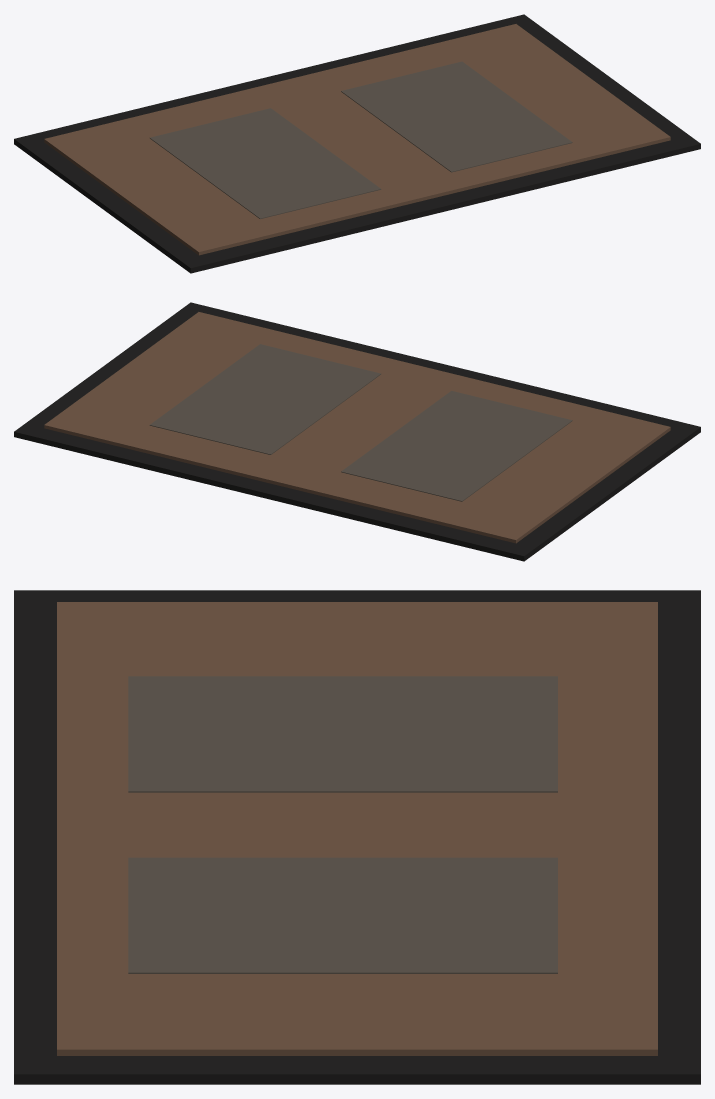
The model's file is door-mat.glb.
3 views of the same model, one above another, from view 1: azimuth 30°, elevation 25°; view 2: azimuth 150°, elevation 25°; view 3: azimuth 270°, elevation 25° (orthographic). The views are drawn at different scales.
Parts seen in each view (by area): view 1: wood, fabric, rubber; view 2: wood, fabric, rubber; view 3: wood, fabric, rubber.
Boxes of the visible parts, bbox=[...] form: wood: bbox=[44, 24, 670, 255]; fabric: bbox=[150, 61, 572, 218]; rubber: bbox=[14, 14, 700, 273]; wood: bbox=[44, 312, 670, 543]; fabric: bbox=[149, 344, 572, 501]; rubber: bbox=[14, 302, 700, 561]; wood: bbox=[57, 602, 657, 1055]; fabric: bbox=[128, 676, 557, 973]; rubber: bbox=[14, 590, 700, 1084].
Size of the model in its own units: 0.8 by 0.014 by 0.48.
